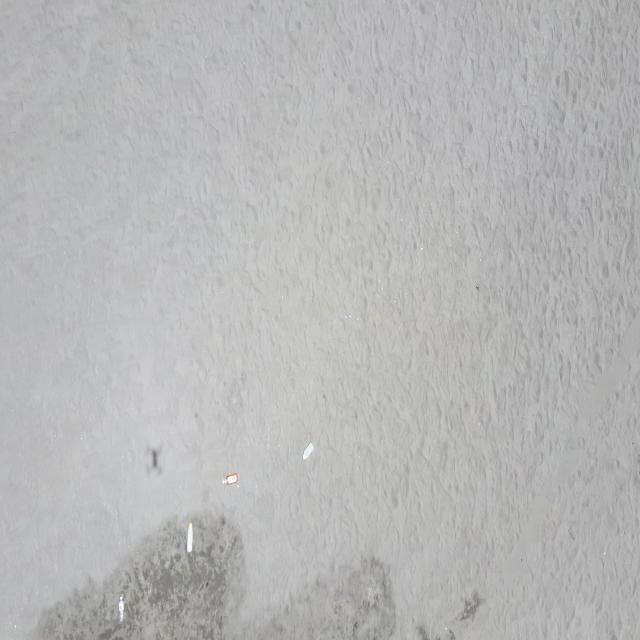Garbage: (223, 472, 238, 484), (301, 443, 312, 459), (187, 522, 192, 552), (118, 595, 123, 622)
